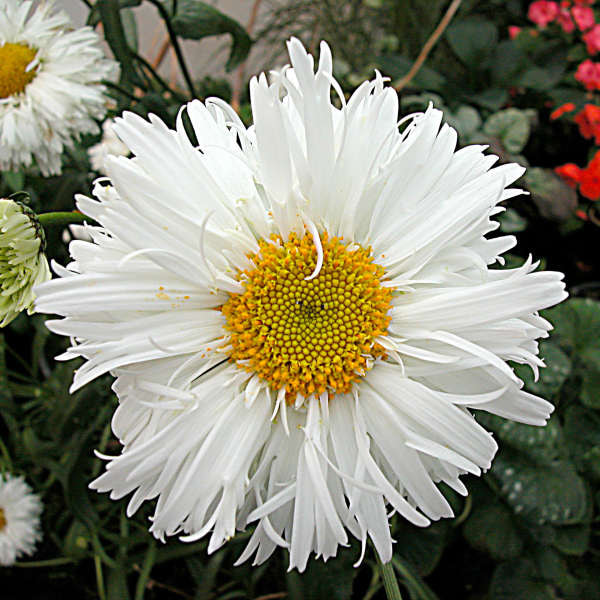Daisy: (39, 41, 565, 558)
